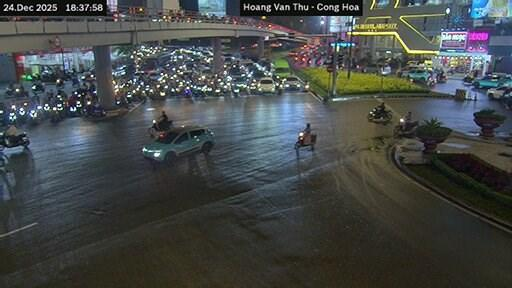motorbike: (294, 130, 316, 152), (0, 131, 28, 147), (393, 117, 416, 135), (147, 120, 172, 135), (367, 108, 390, 121), (83, 103, 105, 115), (28, 104, 41, 124), (461, 72, 474, 84), (51, 107, 61, 121), (32, 81, 44, 92), (54, 77, 64, 88), (435, 72, 445, 81)
